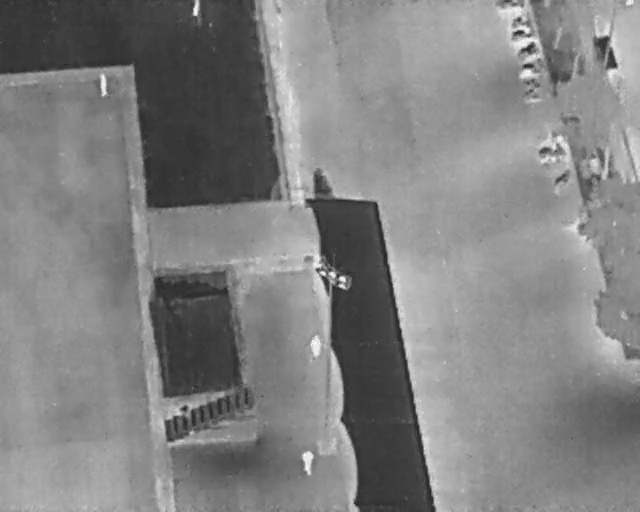Bicycle: (534, 139, 569, 166), (546, 165, 575, 194), (513, 38, 542, 64), (522, 86, 545, 104), (518, 61, 544, 74), (510, 14, 532, 27), (510, 29, 534, 40)
DontCare: (191, 0, 201, 17)
Person: (299, 447, 315, 475), (310, 332, 323, 359), (96, 72, 108, 96)
